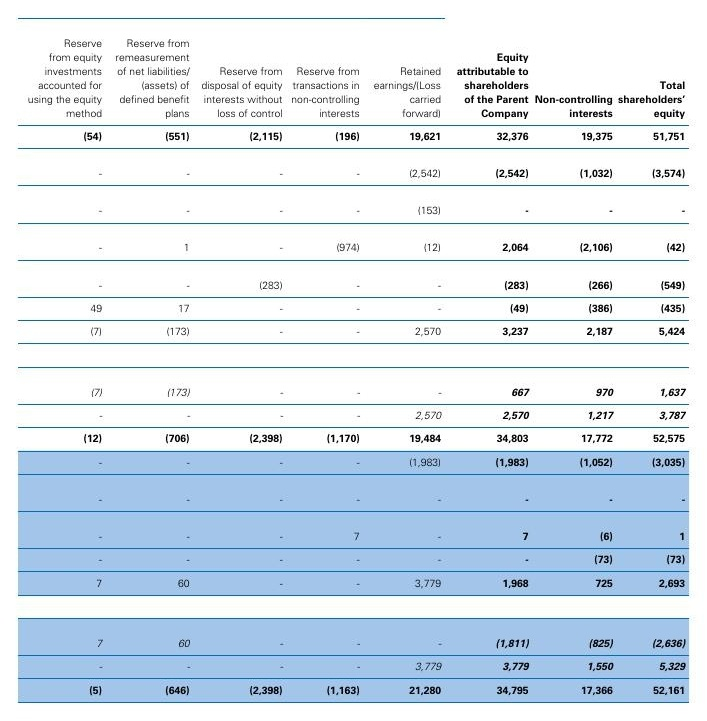table: (0, 0, 707, 721)
